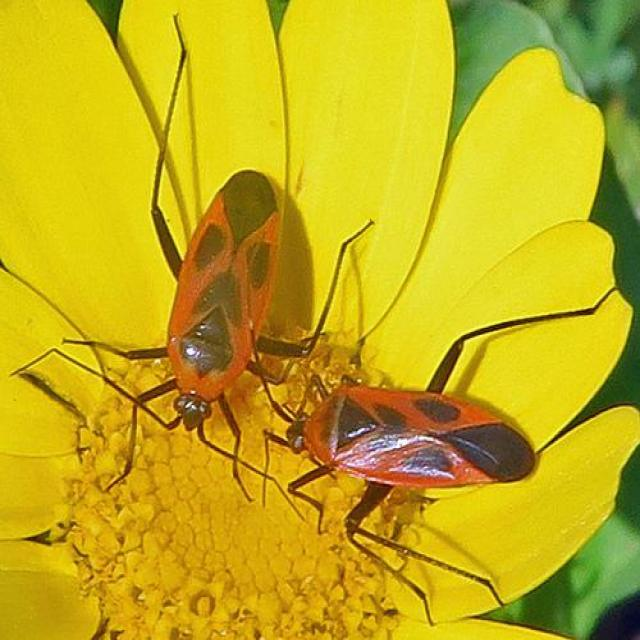Miridae-Adult-: (225, 292, 595, 604), (93, 37, 340, 494)
